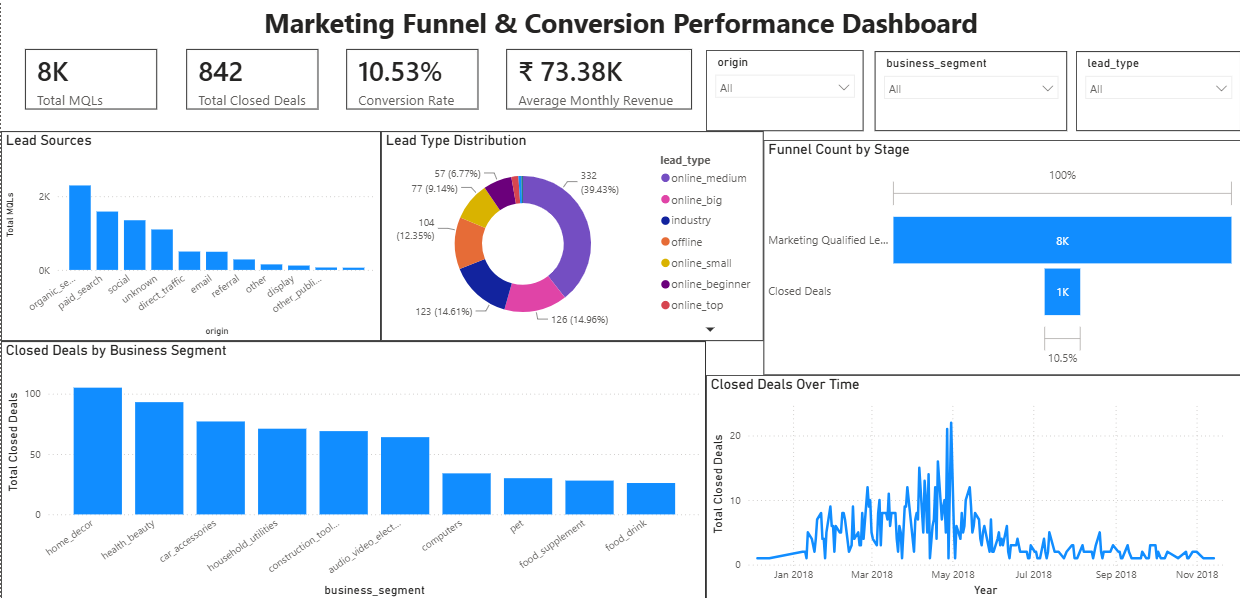

Layout of this report page (visuals, bound fields, positions):
{"tool":"powerbi","page":{"name":"Page 1","canvas":[1480,720],"ordinal":0},"visuals":[{"type":"cardVisual","fields":{"Data":["olist_closed_deals_dataset.Total MQLs"]},"box":[12.5,42.5,191.2,106.2],"z":0},{"type":"cardVisual","fields":{"Data":["olist_closed_deals_dataset.Total Closed Deals"]},"box":[203.8,42.5,191.2,106.2],"z":1000},{"type":"cardVisual","fields":{"Data":["olist_closed_deals_dataset.Conversion Rate"]},"box":[395,42.5,191.2,106.2],"z":2000},{"type":"cardVisual","fields":{"Data":["olist_closed_deals_dataset.Average Monthly Revenue"]},"box":[586.2,42.5,255,106.2],"z":3000},{"type":"clusteredColumnChart","title":"Lead Sources","fields":{"Category":["olist_marketing_qualified_leads_dataset.origin"],"Y":["olist_closed_deals_dataset.Total MQLs"]},"box":[0,156.7,453.7,250.7],"z":4000},{"type":"clusteredColumnChart","title":"Closed Deals by Business Segment","fields":{"Category":["olist_closed_deals_dataset.business_segment"],"Y":["olist_closed_deals_dataset.Total Closed Deals"]},"box":[0,407.5,841.8,311.9],"z":5000},{"type":"donutChart","title":"Lead Type Distribution","fields":{"Category":["olist_closed_deals_dataset.lead_type"],"Y":["olist_closed_deals_dataset.Total Closed Deals"]},"box":[453.7,156.7,456.7,250.7],"z":6000},{"type":"lineChart","title":"Closed Deals Over Time","fields":{"Y":["olist_closed_deals_dataset.Total Closed Deals"],"Category":["olist_closed_deals_dataset.won_date.Variation.Date Hierarchy.Year","olist_closed_deals_dataset.won_date.Variation.Date Hierarchy.Quarter","olist_closed_deals_dataset.won_date.Variation.Date Hierarchy.Month","olist_closed_deals_dataset.won_date.Variation.Date Hierarchy.Day"]},"box":[841.8,447.8,638.8,271.6],"z":7000},{"type":"slicer","fields":{"Values":["olist_marketing_qualified_leads_dataset.origin"]},"box":[841.8,59.7,188.1,97],"z":8000},{"type":"slicer","fields":{"Values":["olist_closed_deals_dataset.business_segment"]},"box":[1043.3,61.2,229.9,95.5],"z":9000},{"type":"slicer","fields":{"Values":["olist_closed_deals_dataset.lead_type"]},"box":[1283.6,61.2,197,95.5],"z":10000},{"type":"funnel","fields":{"Category":["FunnelStages.Stage"],"Y":["FunnelStages.Funnel Count"]},"box":[910.4,167.2,570.1,280.6],"z":11000},{"type":"textbox","box":[249.3,0,982.1,52.2],"z":12000}]}

Visuals, with their boxes in screenshot pixels (x1, y1, x2, y2), scaled from the page's 1480x720 canvas onto the 1240x598 screenshot:
cardVisual - olist_closed_deals_dataset.Total MQLs: crop(10, 35, 171, 124)
cardVisual - olist_closed_deals_dataset.Total Closed Deals: crop(171, 35, 331, 124)
cardVisual - olist_closed_deals_dataset.Conversion Rate: crop(331, 35, 491, 124)
cardVisual - olist_closed_deals_dataset.Average Monthly Revenue: crop(491, 35, 705, 124)
"Lead Sources" clusteredColumnChart: crop(0, 130, 380, 338)
"Closed Deals by Business Segment" clusteredColumnChart: crop(0, 338, 705, 597)
"Lead Type Distribution" donutChart: crop(380, 130, 763, 338)
"Closed Deals Over Time" lineChart: crop(705, 372, 1239, 597)
slicer - olist_marketing_qualified_leads_dataset.origin: crop(705, 50, 863, 130)
slicer - olist_closed_deals_dataset.business_segment: crop(874, 51, 1067, 130)
slicer - olist_closed_deals_dataset.lead_type: crop(1075, 51, 1239, 130)
funnel - FunnelStages.Stage x FunnelStages.Funnel Count: crop(763, 139, 1239, 372)
textbox: crop(209, 0, 1032, 43)
